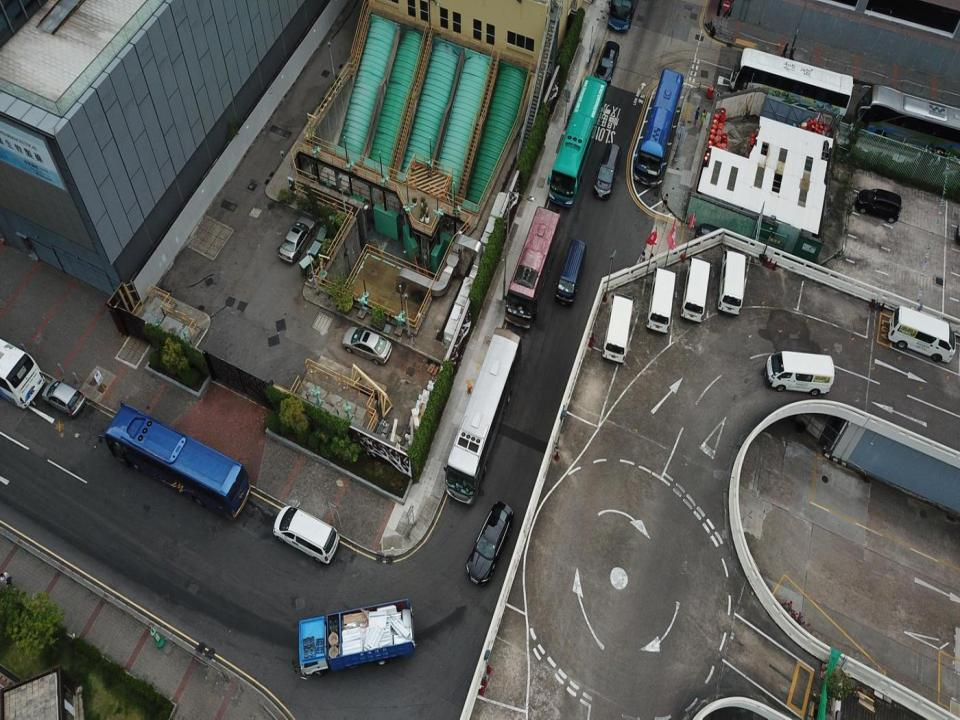bus: (96, 398, 252, 526), (442, 326, 526, 504), (726, 46, 854, 132), (850, 79, 960, 172), (546, 73, 608, 211), (503, 204, 561, 330), (631, 67, 684, 189), (2, 327, 46, 420)
car: (464, 500, 515, 588), (341, 324, 393, 366), (277, 214, 315, 264), (591, 142, 621, 204), (42, 374, 84, 418), (854, 185, 902, 223), (593, 40, 621, 83)
truck: (290, 596, 416, 682), (604, 1, 634, 32)
van: (272, 504, 341, 568), (885, 304, 956, 364), (764, 348, 836, 396), (600, 292, 636, 364), (552, 237, 588, 308), (680, 255, 712, 324), (646, 264, 677, 334), (718, 249, 748, 315)
